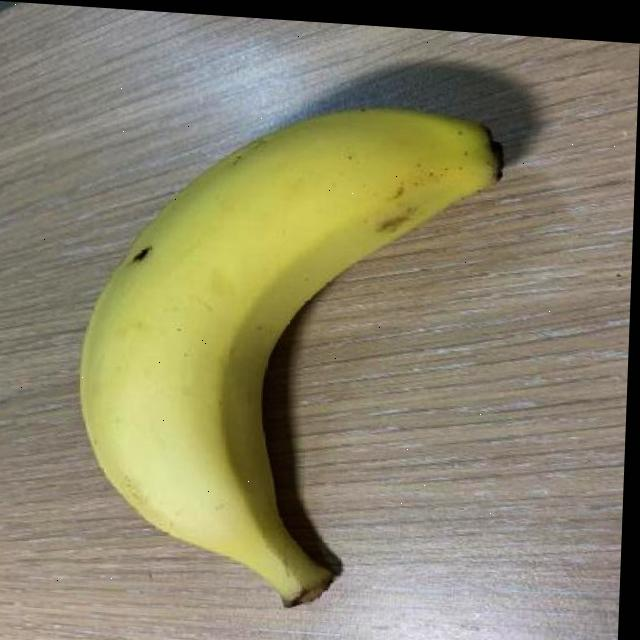banana: (62, 81, 515, 621)
